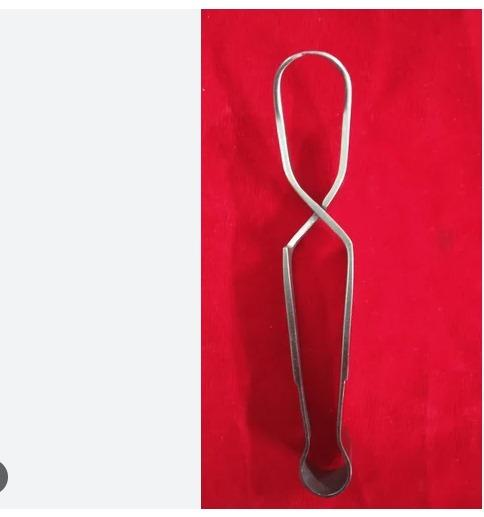Doyen Cross Action Towel Clamp: (269, 41, 365, 498)
